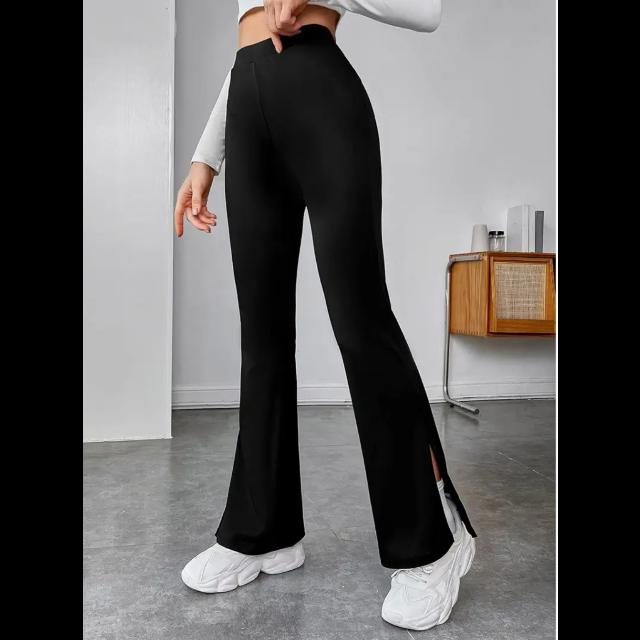bottom: (215, 40, 457, 562)
shoes: (363, 548, 501, 632), (176, 537, 314, 591)
